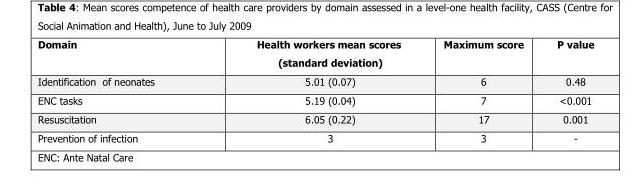table: (36, 37, 593, 143)
table column: (204, 37, 421, 143), (36, 37, 204, 143), (421, 37, 539, 143), (539, 37, 593, 143)
table column header: (36, 37, 593, 71)
table row: (36, 37, 593, 71), (36, 71, 593, 90), (36, 90, 593, 109), (36, 109, 593, 128), (36, 128, 593, 143)
